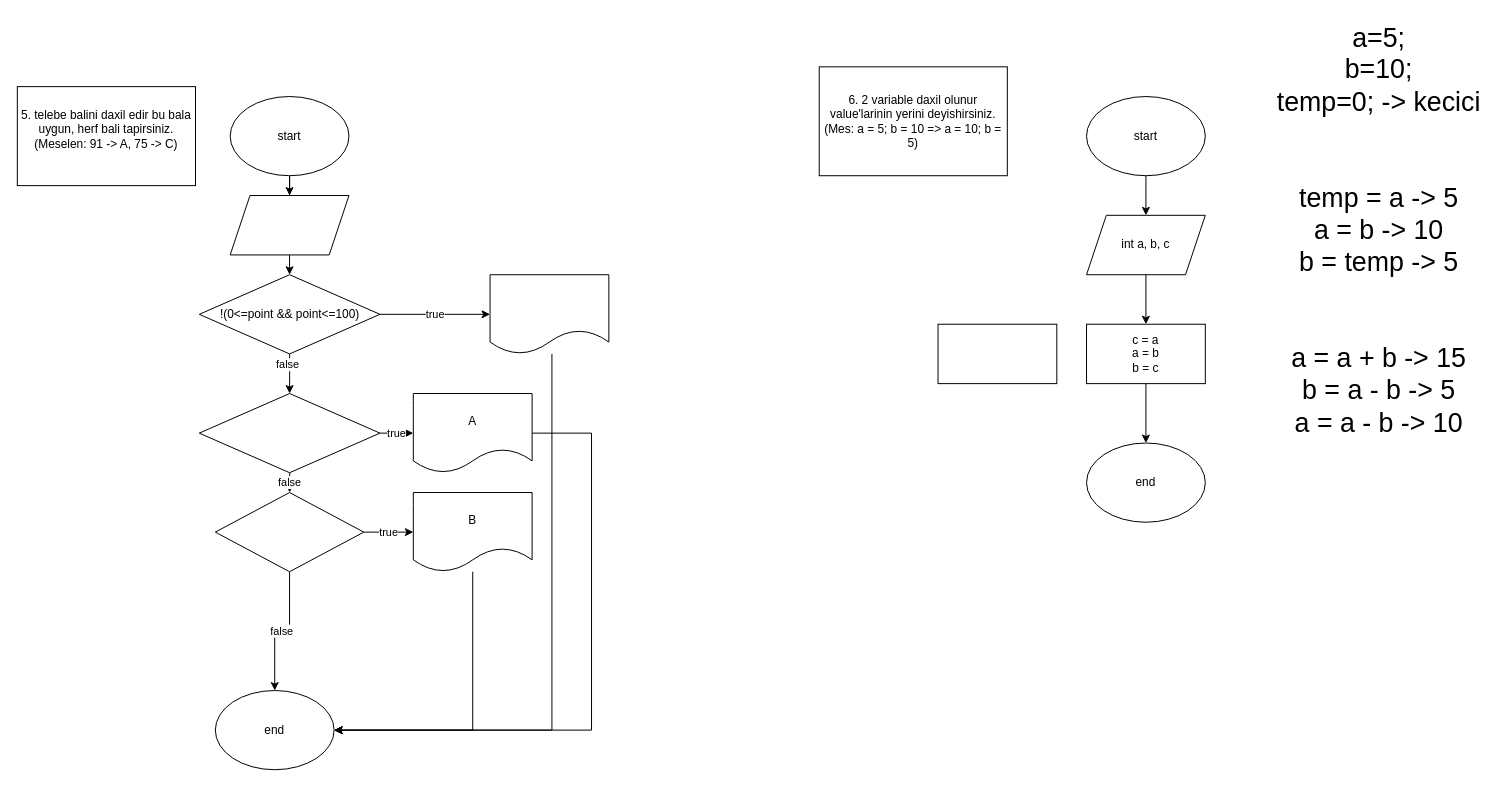
Image size: 1510x787. Some labels were removed from this diagram. Here are the shapes that lost their labels. From the top down, the centre of each, then its label:
At (289,225): "int point;".
At (549,314): "balinizi duzgun daxil edin".
At (997,353): "a = a + b b = a - b a = a - b".
At (289,433): "point >= 91".
At (289,532): "point >= 81".
